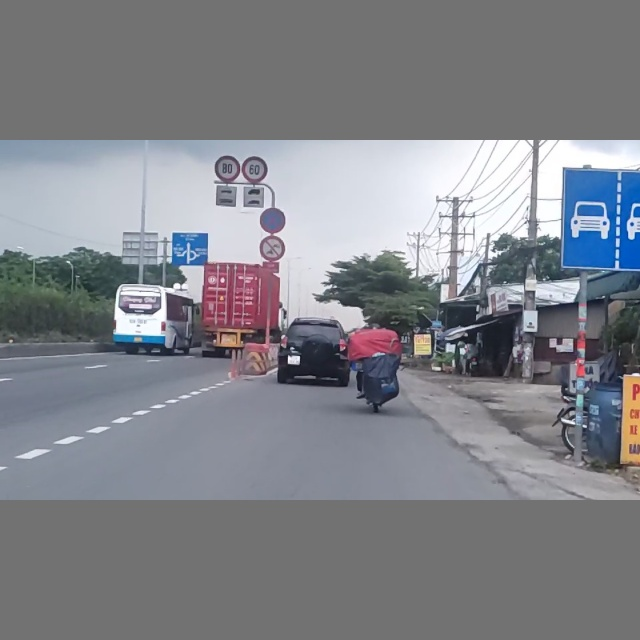P.111: (259, 235, 285, 261)
P.127*60: (242, 156, 268, 183)
P.127*80: (213, 155, 241, 183)
P.130: (259, 207, 287, 233)
